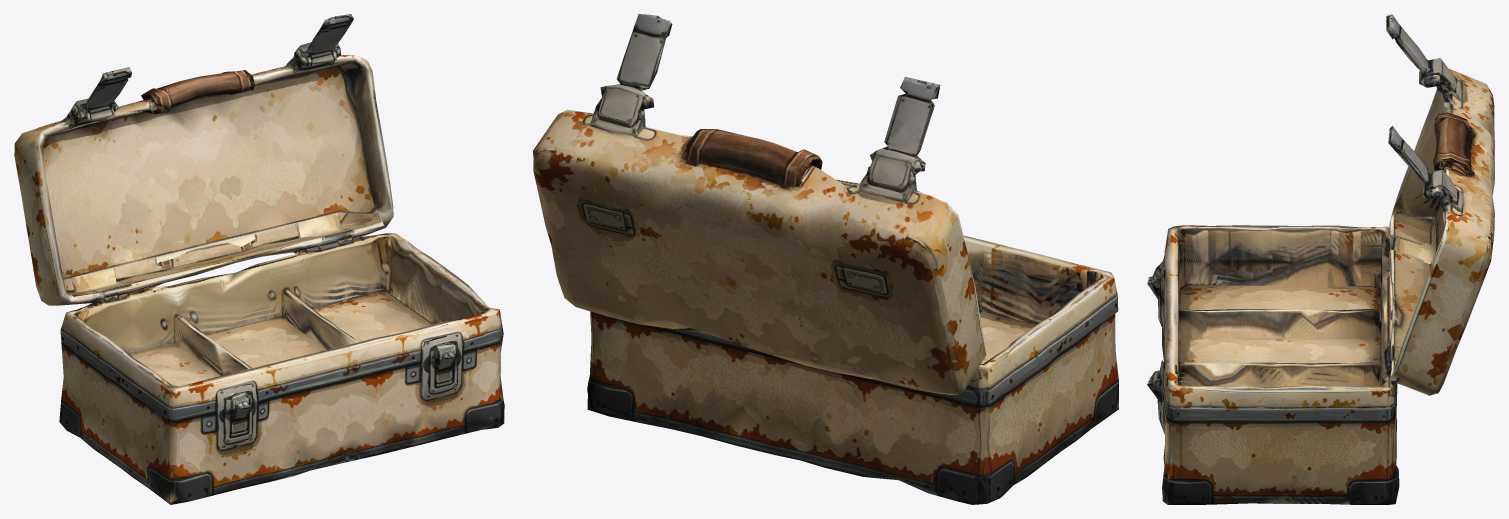
File: Loot_MedicalCase_Open.fbx
The picture shows the model from 3 angles, left to right: view 1: azimuth 30°, elevation 25°; view 2: azimuth 150°, elevation 25°; view 3: azimuth 270°, elevation 25°; orthographic projection. The views are drawn at different scales.
Parts seen in each view (by area): view 1: texture_mapping; view 2: texture_mapping; view 3: texture_mapping.
Boxes of the visible parts, x1,y1,x2,y2 form: texture_mapping: (14, 14, 504, 504); texture_mapping: (533, 14, 1118, 504); texture_mapping: (1147, 14, 1494, 504).
Bounding box in the file's own units: 1 × 0.8754 × 0.9687.
Materials: 1 (1 with a texture image).
